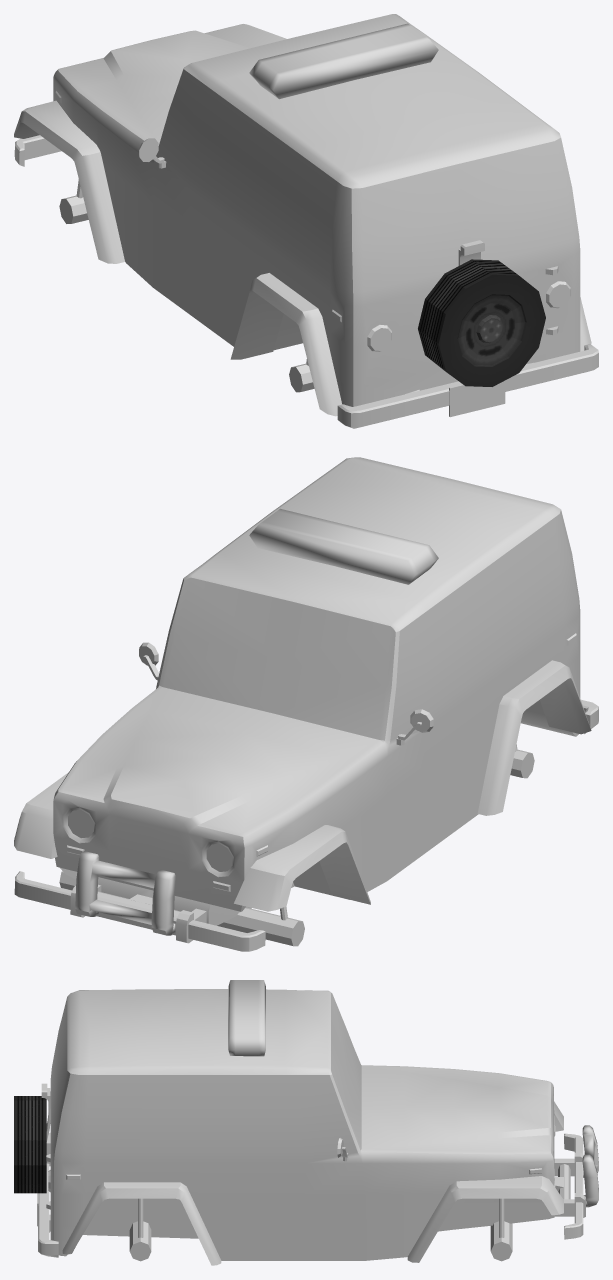
File: SheriffHopper.fbx
3 renders of one model, top to bottom at view 1: azimuth 30°, elevation 25°; view 2: azimuth 150°, elevation 25°; view 3: azimuth 270°, elevation 25°, orthographic. The views are drawn at different scales.
Visible parts, largest first — view 1: Hopper, SpareWheel; view 2: Hopper; view 3: Hopper, SpareWheel.
Part boxes in pixels (x1,y1,x2,y2): Hopper: (14,14,598,428); SpareWheel: (418,259,545,386); Hopper: (14,457,598,951); Hopper: (37,980,598,1265); SpareWheel: (14,1096,46,1193).
Size of the model in its own units: 2.45 by 2.11 by 5.37.
